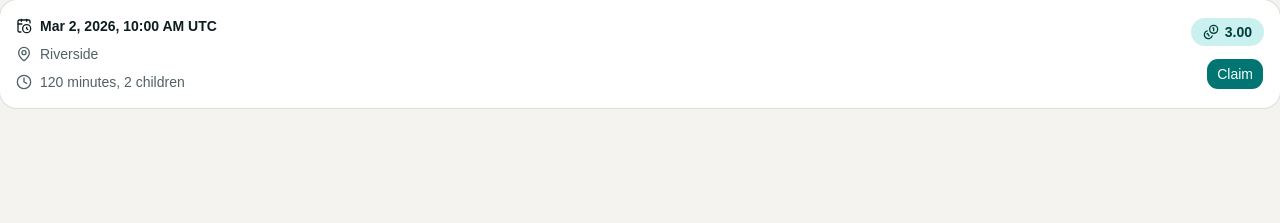
Test: OpenRequestsPage › explains a rejected claim (409 invalid_state)
Click the button with aria-label "claim the request in riverside": (1235, 74) [1206,58,1264,90]
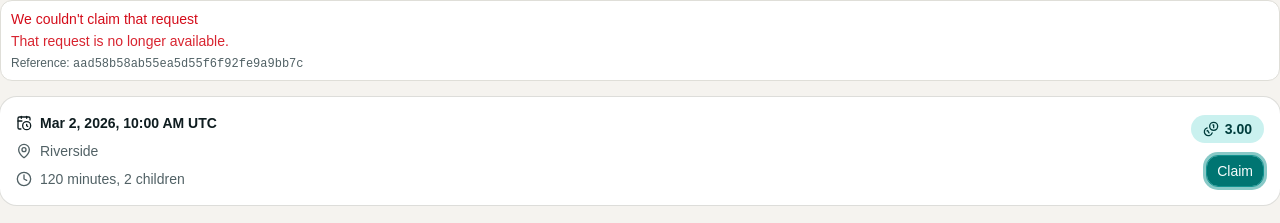
Expected: the message shows "no longer available", [11,33,229,49]
